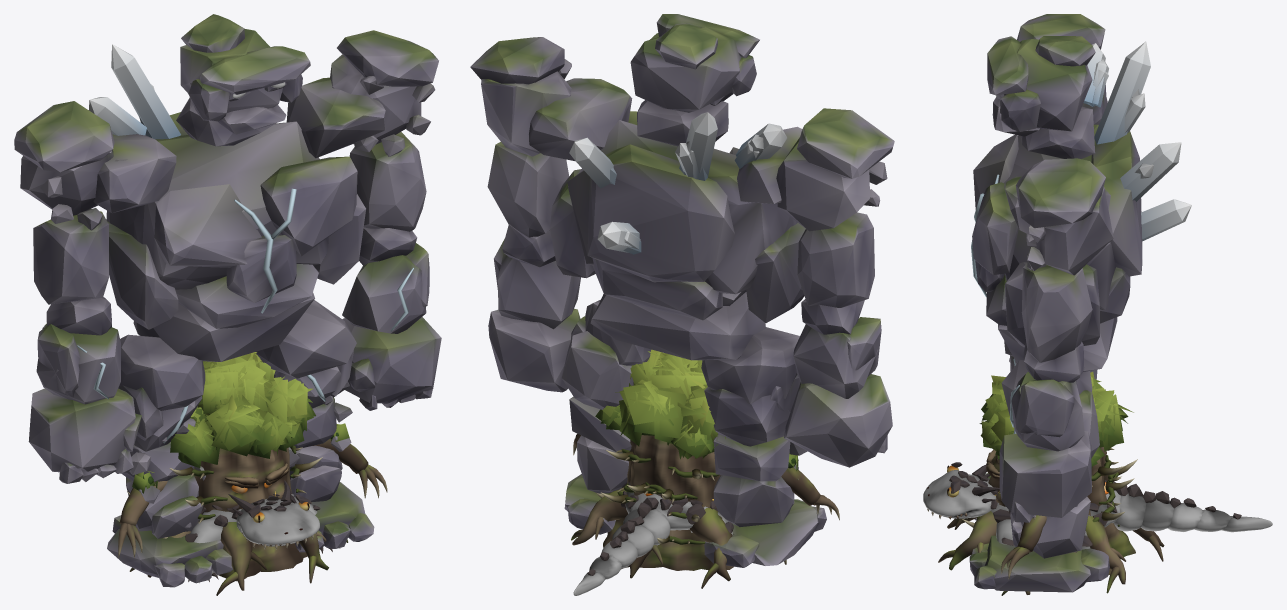
The model's file is bosses.glb.
The picture shows the model from 3 angles, left to right: view 1: azimuth 30°, elevation 25°; view 2: azimuth 150°, elevation 25°; view 3: azimuth 270°, elevation 25°; orthographic projection.
Parts seen in each view (by area): view 1: TorsoM__108, ArmA__120, ArmB__121, LegA__106, LegB__107, Leaves__2, Stump__0, BrowStone__110, HeadM__51, HeadM__109, Crest__114, Jaw__111 (+4 smaller); view 2: TorsoM__108, ArmA__120, ArmB__121, LegA__106, LegB__107, Stump__0, Leaves__2, HeadM__109, Crest__114, Body__44, BrowStone__110, ArmL__38 (+5 smaller); view 3: TorsoM__108, ArmB__121, LegB__107, Stump__0, HeadM__109, Leaves__2, HeadM__51, BrowStone__110, ArmA__120, Crest__114, Cheek__113, Tail0__99 (+7 smaller).
Part boxes in pixels (x1,y1,x2,y2): TorsoM__108: [89, 44, 385, 361]; ArmA__120: [14, 101, 141, 483]; ArmB__121: [330, 30, 441, 410]; LegA__106: [107, 334, 232, 587]; LegB__107: [256, 300, 374, 552]; Leaves__2: [170, 352, 315, 467]; Stump__0: [129, 447, 348, 595]; BrowStone__110: [200, 46, 310, 94]; HeadM__51: [236, 499, 319, 546]; HeadM__109: [180, 29, 282, 112]; Crest__114: [181, 14, 244, 52]; Jaw__111: [218, 105, 286, 134]; TorsoM__108: [529, 78, 805, 360]; ArmA__120: [776, 108, 894, 467]; ArmB__121: [470, 37, 580, 392]; LegA__106: [701, 327, 826, 567]; LegB__107: [561, 300, 651, 534]; Stump__0: [571, 435, 786, 588]; Leaves__2: [595, 349, 725, 459]; HeadM__109: [630, 27, 741, 112]; Crest__114: [655, 23, 717, 69]; Body__44: [621, 482, 717, 530]; BrowStone__110: [656, 14, 759, 57]; ArmL__38: [781, 467, 839, 520]; TorsoM__108: [971, 41, 1191, 371]; ArmB__121: [999, 158, 1113, 522]; LegB__107: [969, 360, 1109, 592]; Stump__0: [938, 447, 1164, 595]; HeadM__109: [1000, 39, 1092, 131]; Leaves__2: [979, 371, 1133, 468]; HeadM__51: [923, 470, 995, 518]; BrowStone__110: [987, 36, 1028, 94]; ArmA__120: [1004, 14, 1106, 371]; Crest__114: [1035, 36, 1095, 66]; Cheek__113: [1001, 89, 1040, 131]; Tail0__99: [1113, 484, 1146, 531].
Bounding box in the file's own units: 18.72 × 23.06 × 14.27.
